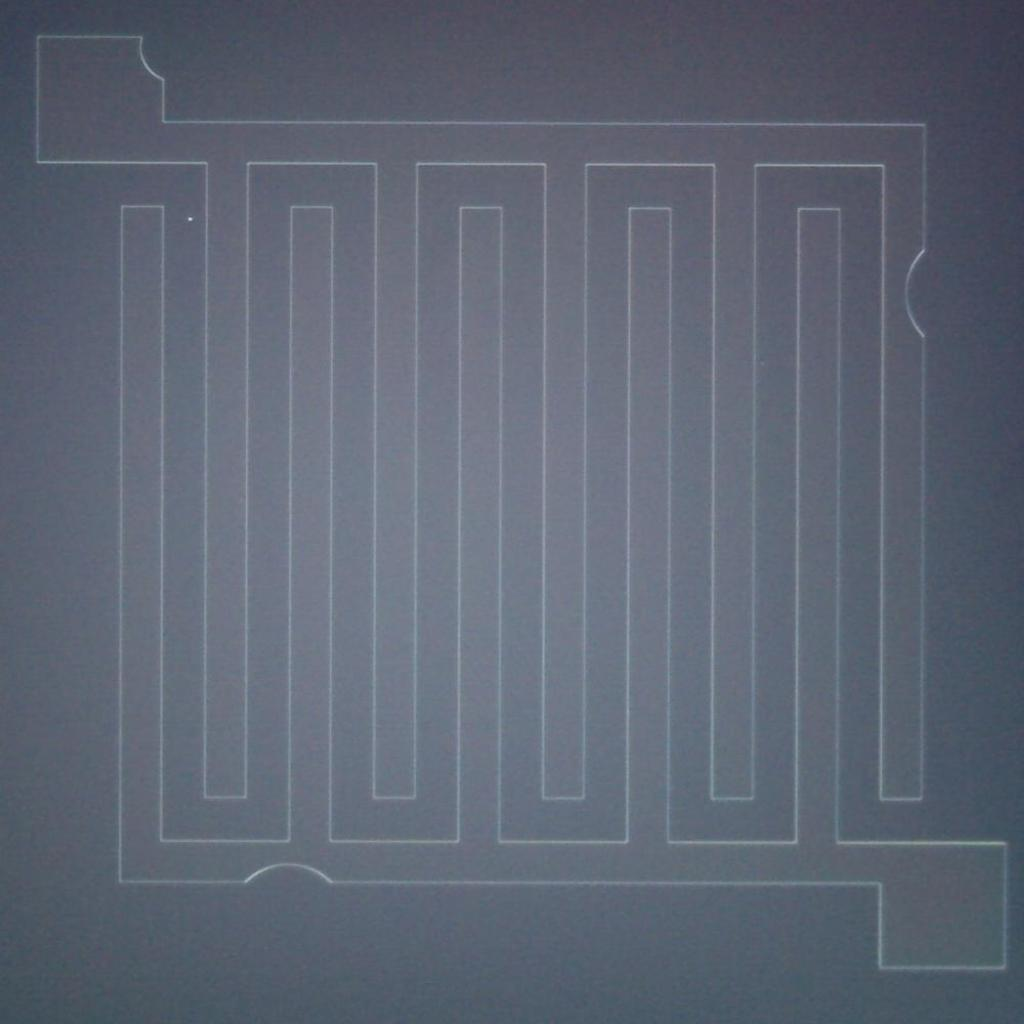dot: (188, 216, 193, 221)
